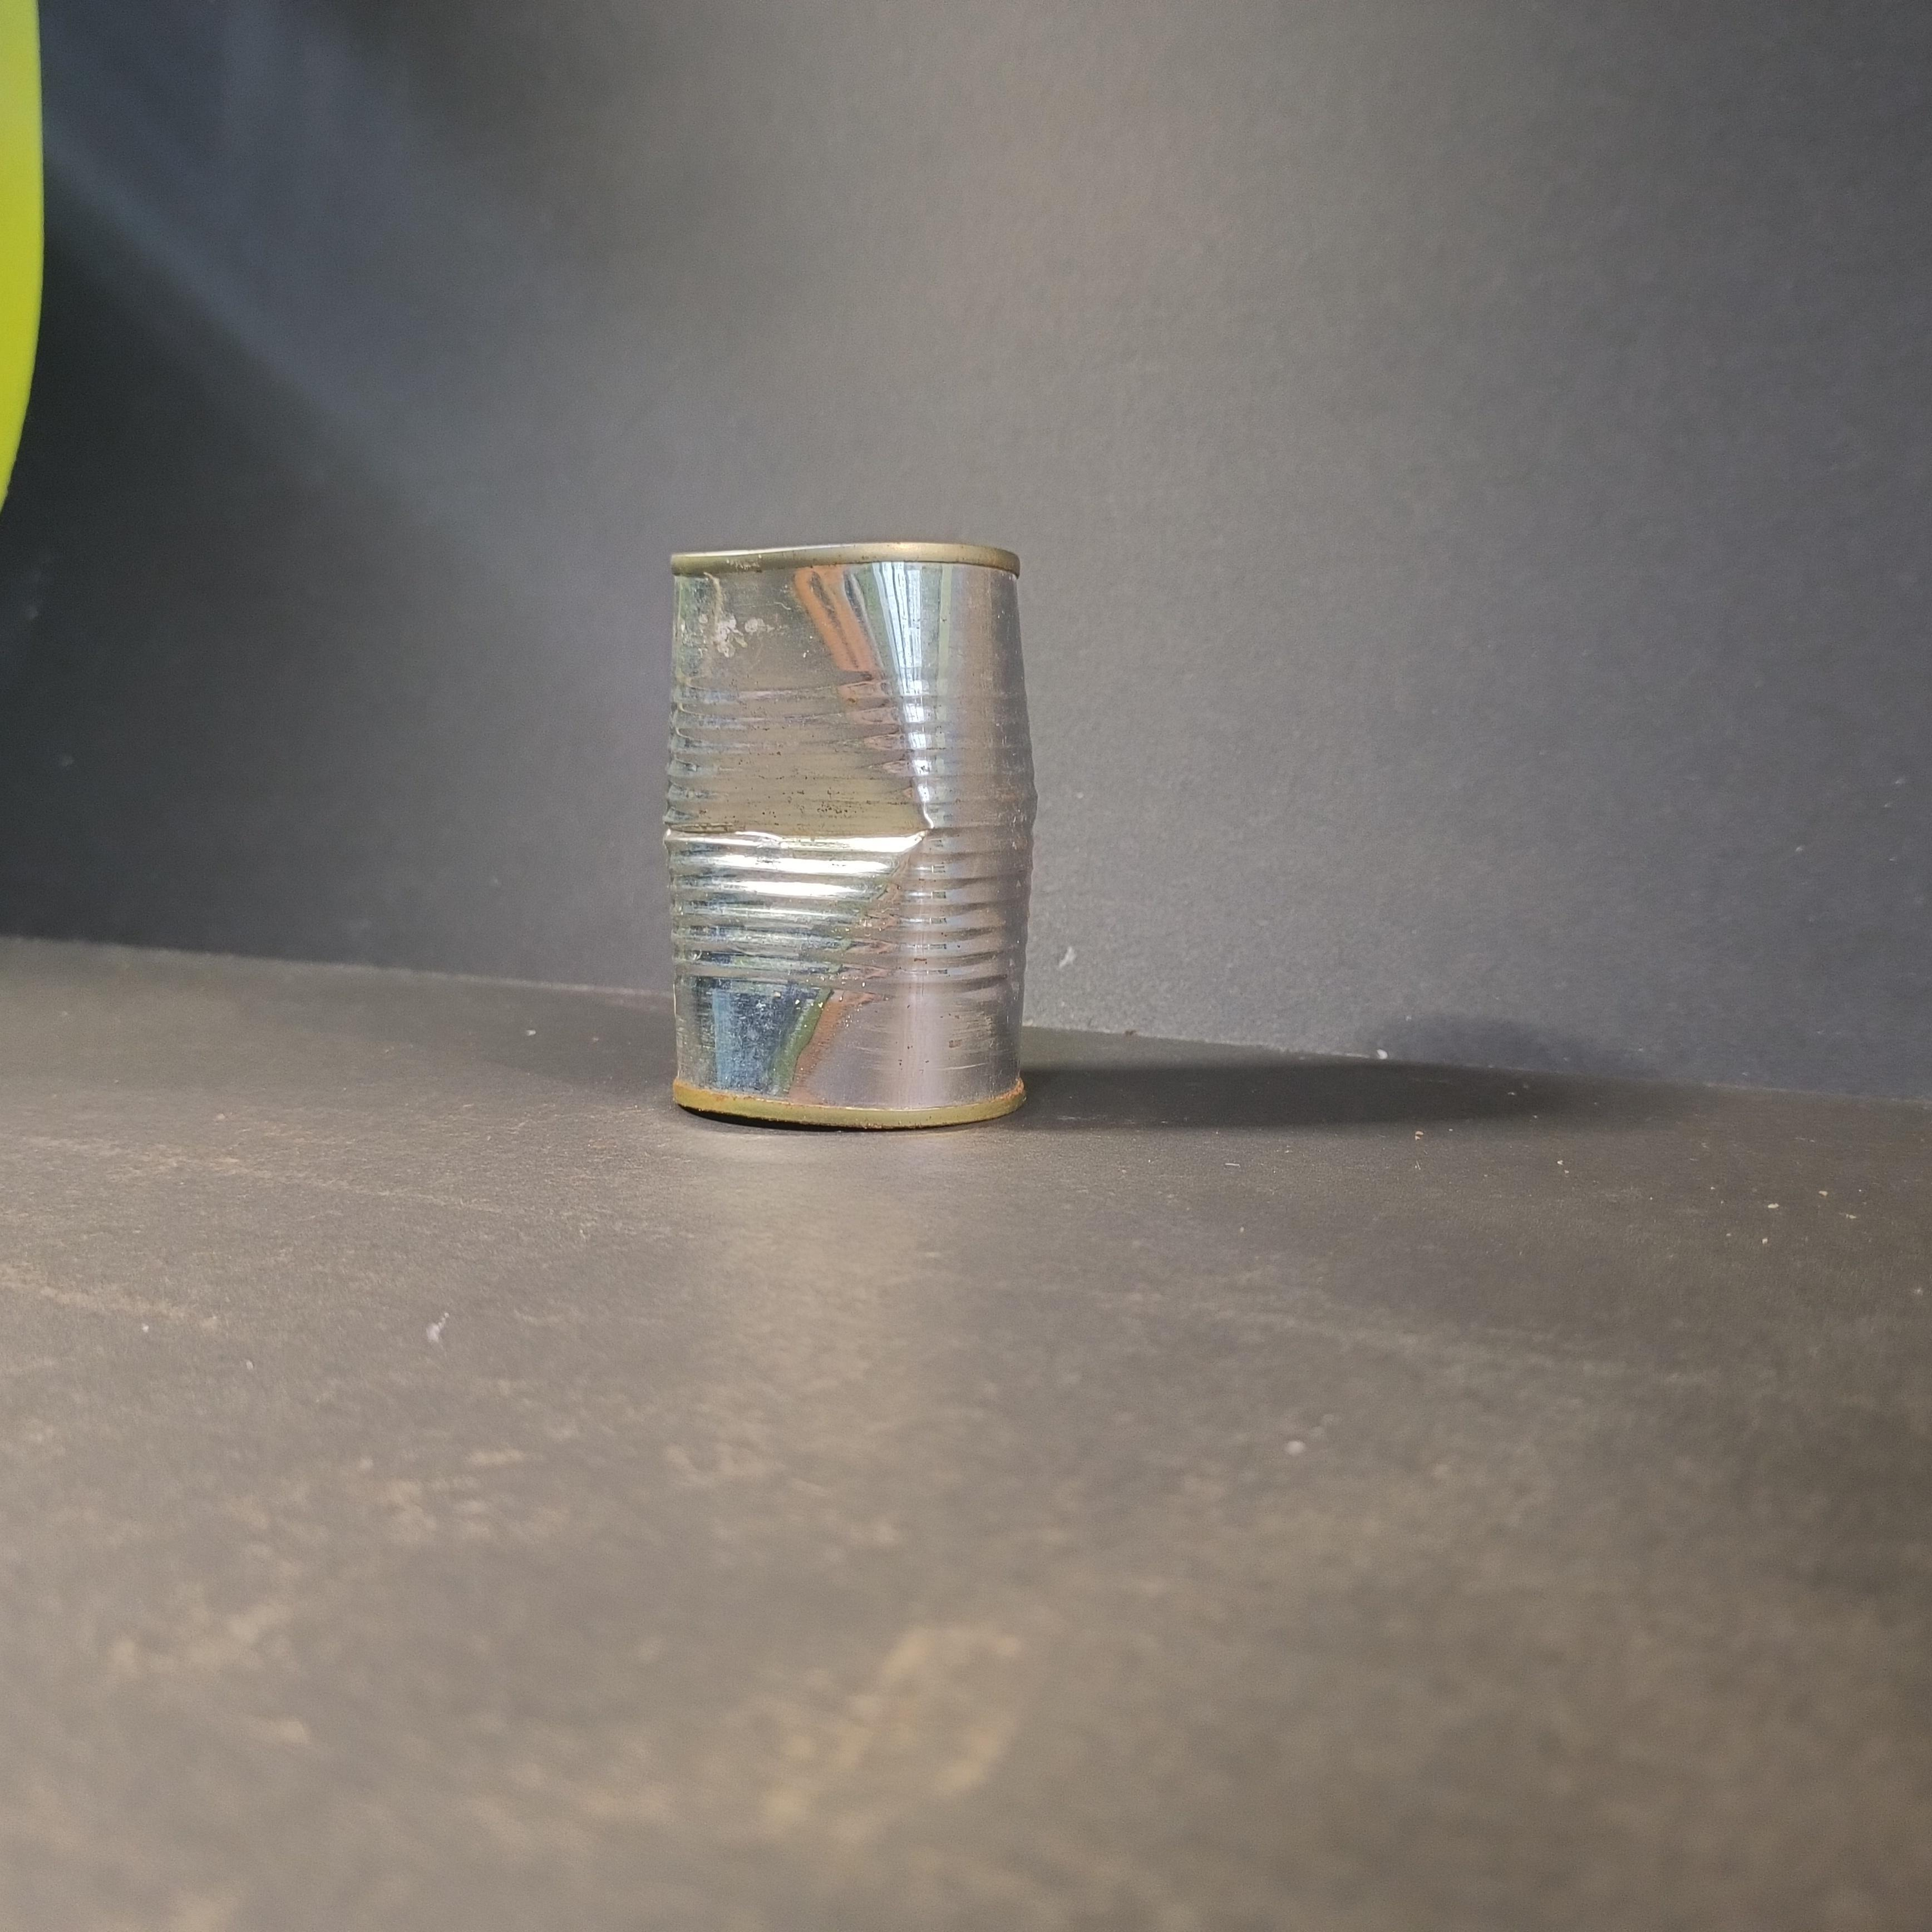Dented: (656, 518, 1051, 1148)
